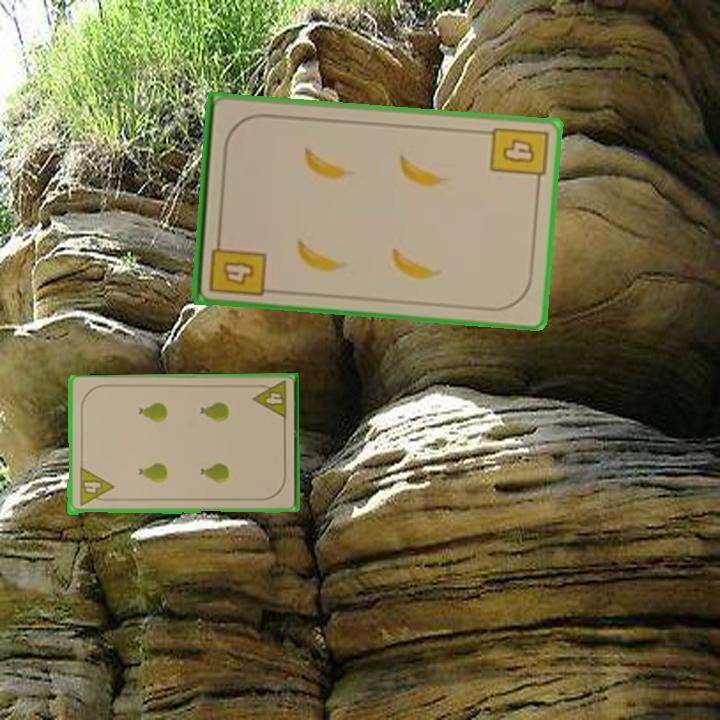4b: (205, 231, 269, 300), (486, 123, 551, 189)
4p: (249, 378, 289, 422), (76, 466, 115, 509)
